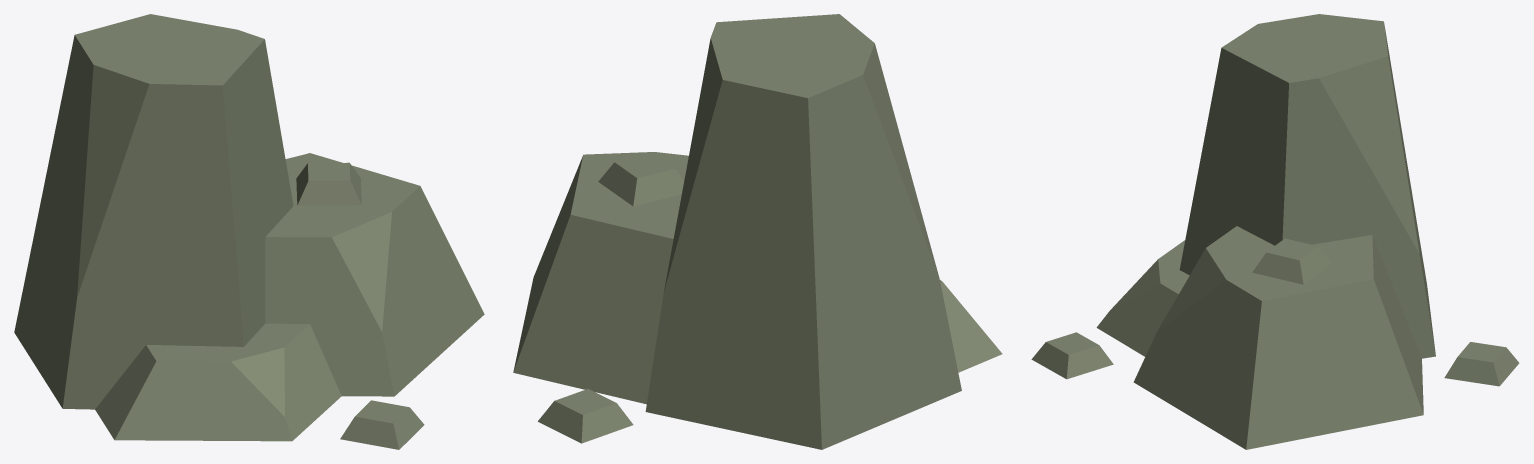
The model's file is kenney_survival-kit__rock-a__meadow.fbx.
The picture shows the model from 3 angles, left to right: view 1: azimuth 30°, elevation 25°; view 2: azimuth 150°, elevation 25°; view 3: azimuth 270°, elevation 25°; orthographic projection. The views are drawn at different scales.
Visible parts, largest first — view 1: kenney_survival-kit__rock-a__meadow_stone; view 2: kenney_survival-kit__rock-a__meadow_stone; view 3: kenney_survival-kit__rock-a__meadow_stone.
Boxes of the visible parts, left/top/right/bottom form: kenney_survival-kit__rock-a__meadow_stone: left=14, top=14, right=484, bottom=449; kenney_survival-kit__rock-a__meadow_stone: left=513, top=14, right=1002, bottom=449; kenney_survival-kit__rock-a__meadow_stone: left=1031, top=14, right=1519, bottom=449.
Size of the model in its own units: 1.98 by 1.4 by 2.22.
1 material, 1 textured.
